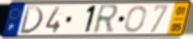1: (84, 5, 98, 35)
4: (44, 6, 62, 34)
7: (149, 4, 172, 34)
D: (18, 6, 44, 36)
O: (122, 5, 148, 34)
R: (91, 3, 121, 35)
